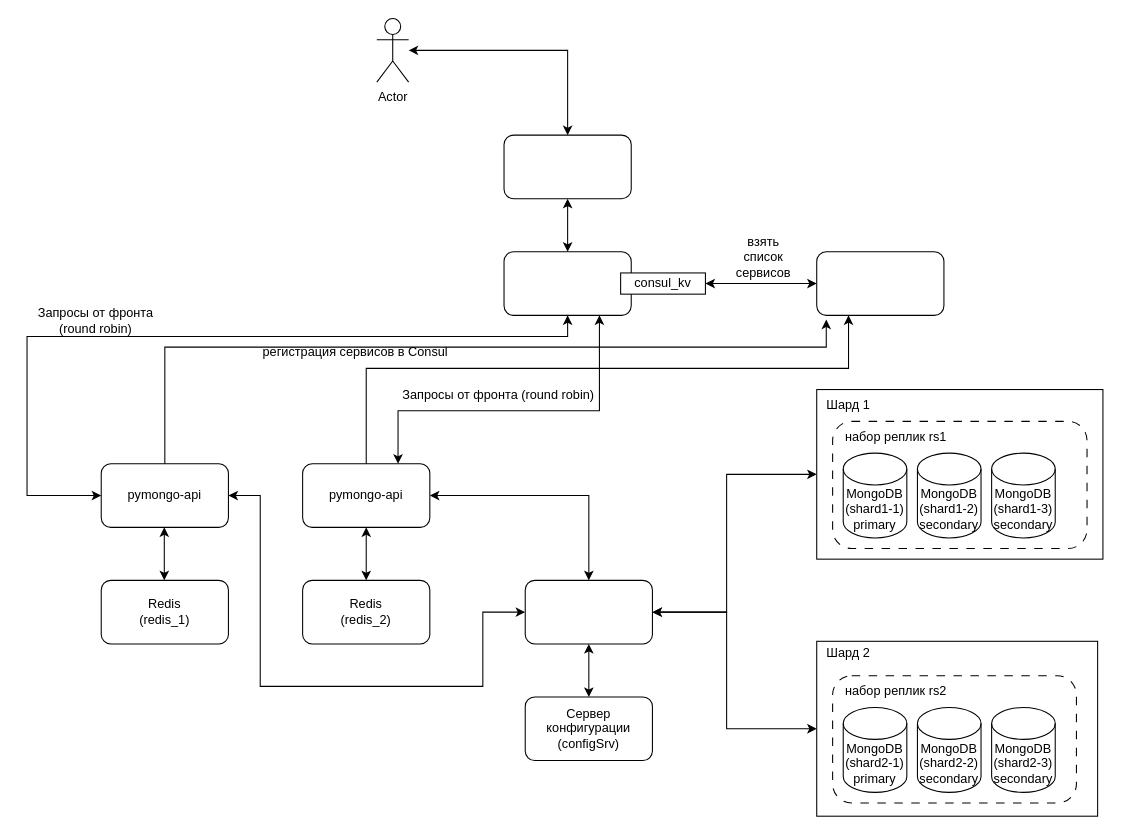
Image size: 1121x835. Some labels were removed from this diagram. Each missing label, with the centre of its shape:
"APISIX Gateway" goes at [567,283].
"Consul" goes at [880,283].
"Frontend" goes at [567,166].
"Роутер (mongos_router)" goes at [588,611].
